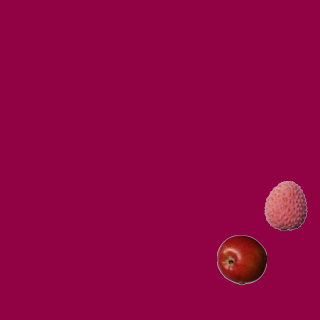Apple Braeburn: (216, 234, 266, 284)
Lychee: (260, 180, 310, 230)
